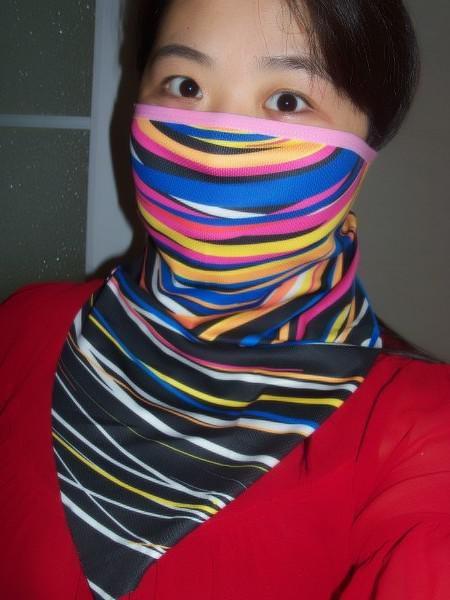OK: (132, 36, 365, 269)
